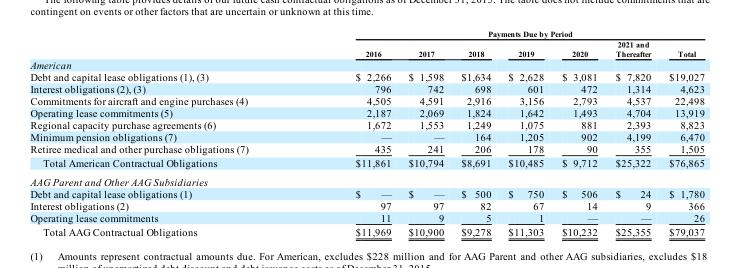table: (29, 28, 703, 237)
table column: (29, 28, 301, 237), (301, 28, 399, 237), (498, 28, 552, 237), (605, 28, 659, 237), (399, 28, 452, 237), (552, 28, 605, 237), (452, 28, 498, 237), (659, 28, 703, 237)
table column header: (29, 28, 703, 58)
table projected row header: (29, 172, 703, 187), (29, 58, 703, 70)
table row: (29, 38, 703, 58), (29, 155, 703, 172), (29, 172, 703, 187), (29, 142, 703, 155), (29, 211, 703, 224), (29, 224, 703, 237), (29, 58, 703, 70), (29, 70, 703, 82), (29, 82, 703, 94), (29, 94, 703, 106), (29, 106, 703, 118), (29, 118, 703, 130), (29, 130, 703, 142), (29, 187, 703, 199), (29, 199, 703, 211), (29, 28, 703, 38)
table spanning cell: (301, 28, 703, 38)
